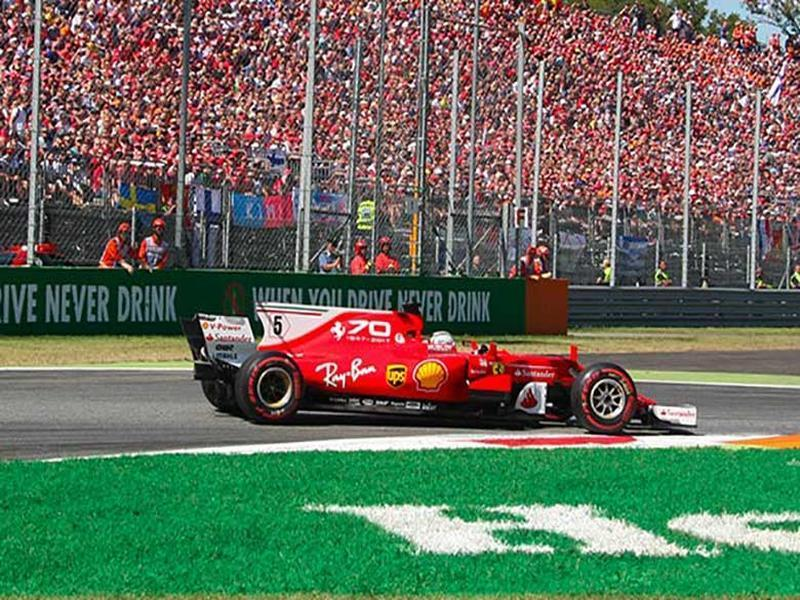f1: (183, 254, 705, 459)
